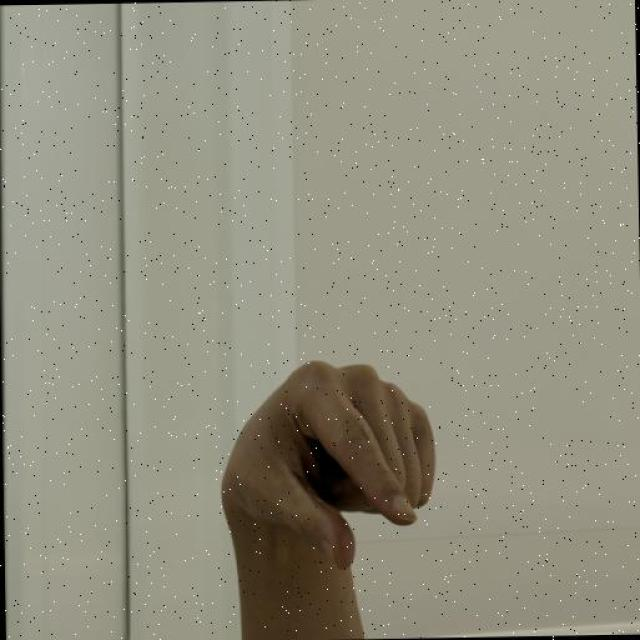Q: (215, 355, 441, 575)
